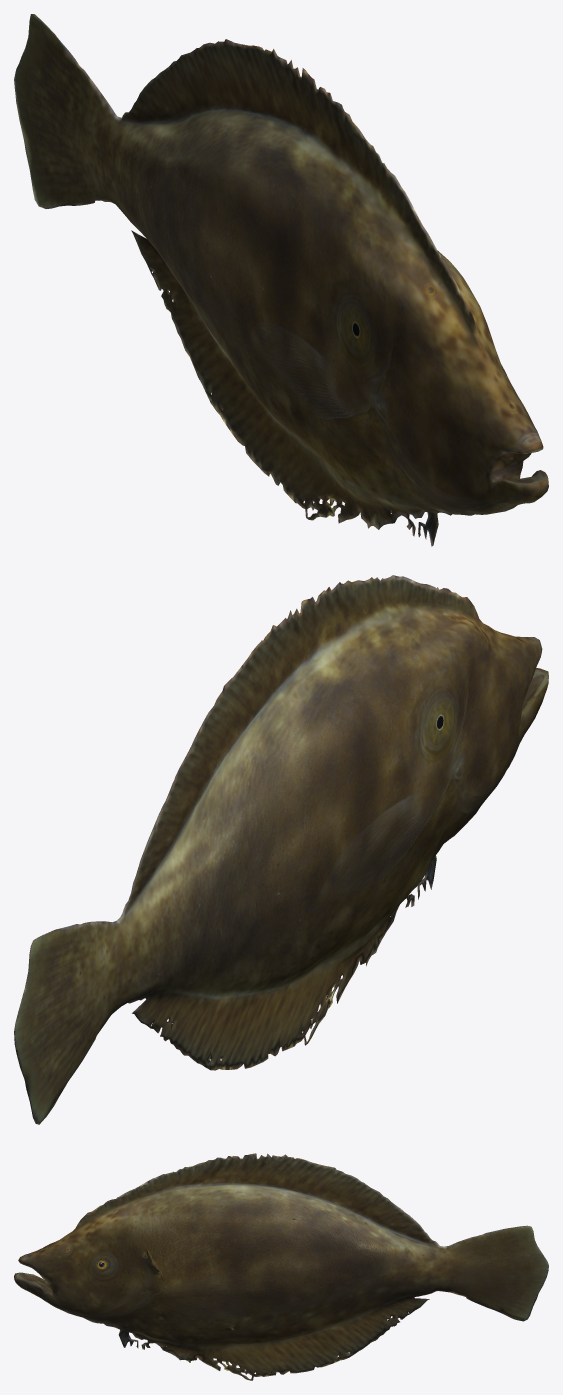
File: 광어_에셋_1_0531164704_texture.fbx
3 views of the same model, one above another, from view 1: azimuth 30°, elevation 25°; view 2: azimuth 150°, elevation 25°; view 3: azimuth 270°, elevation 25° (orthographic). The views are drawn at different scales.
Parts seen in each view (by area): view 1: Mesh1; view 2: Mesh1; view 3: Mesh1.
Part boxes in pixels (x1,y1,x2,y2): Mesh1: [14, 14, 548, 546]; Mesh1: [14, 575, 548, 1124]; Mesh1: [14, 1153, 548, 1380].
Size of the model in its own units: 21.81 by 93.7 by 200.
1 material, 1 textured.
